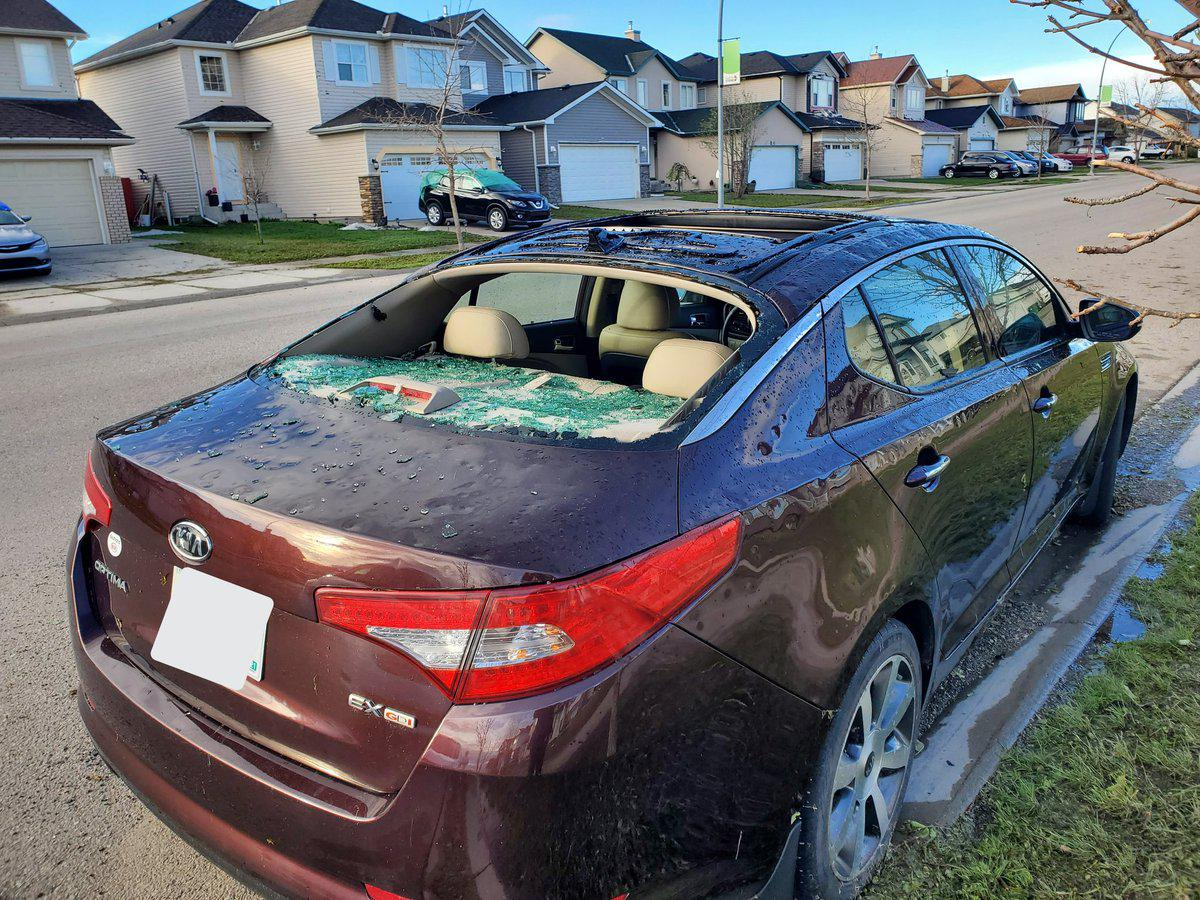Rear-windscreen-Damage: (272, 243, 805, 433)
